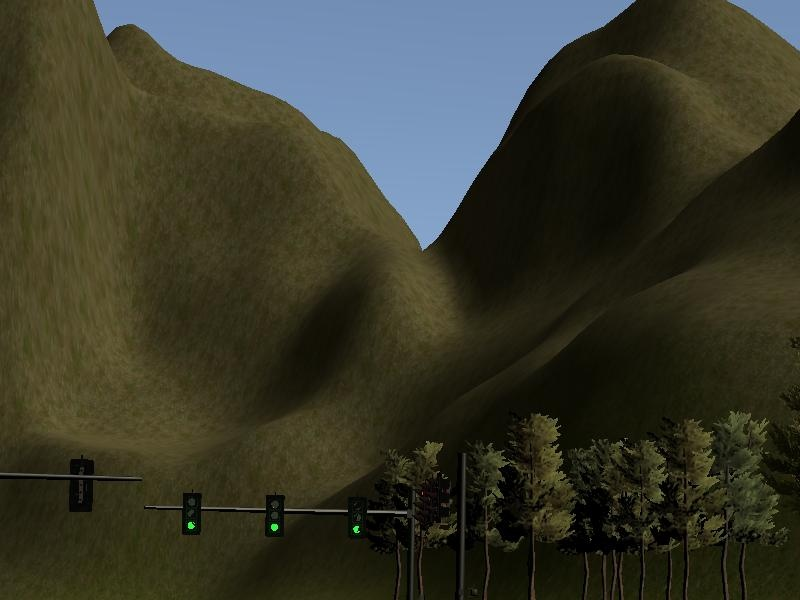traffic_light_green: (144, 488, 384, 541)
